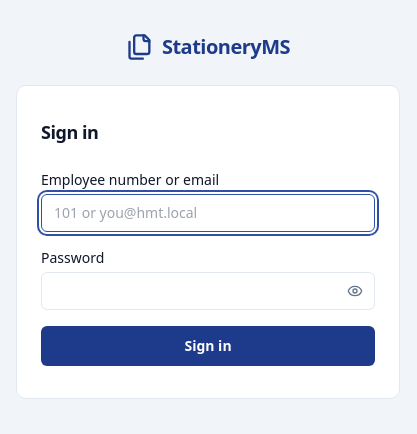
Scenario: Login page › shows a generic error message for invalid credentials
Type "101" into the field labelled "Employee number or email" at (208, 213), box [41,194,375,232]
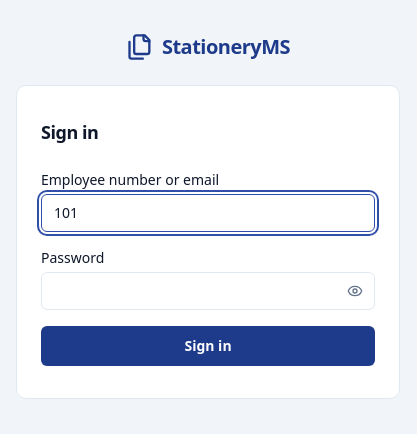
Type "wrong-password" into the password field labelled "Password" at (208, 291), box [41,272,375,310]
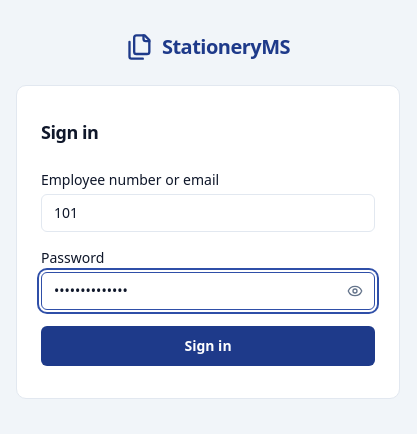
Click the button "Sign in" at (208, 346), box [41,326,375,366]
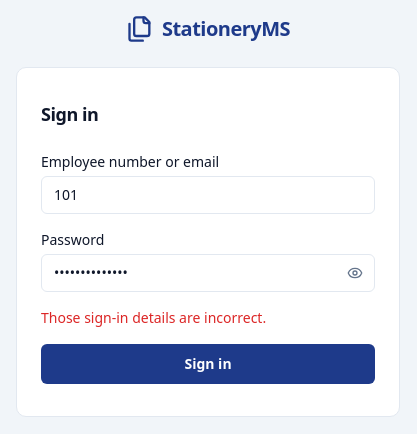
Now the message shows "incorrect", box [41,308,266,327]
